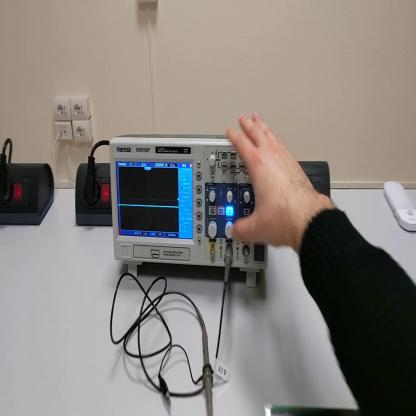hand: (222, 110, 311, 252)
oscilloscope: (109, 132, 270, 290)
oscilloscope probe tip: (198, 308, 214, 415)
socket: (1, 159, 56, 228), (73, 163, 112, 227)
